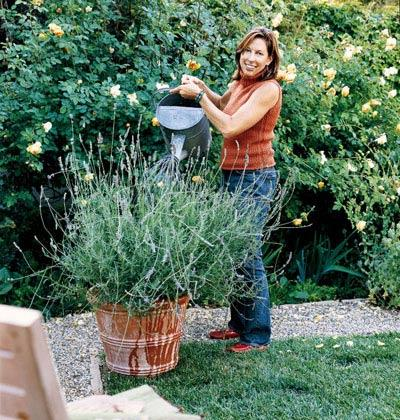person: (170, 28, 286, 356)
